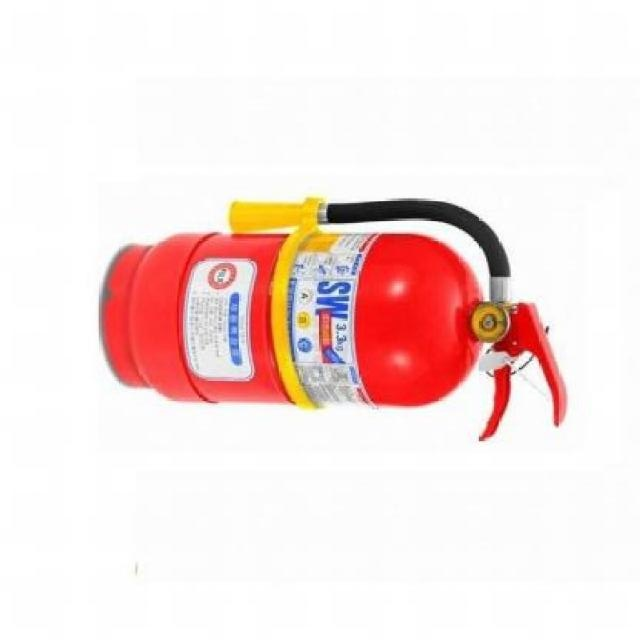fire extinguisher: (102, 198, 567, 442)
